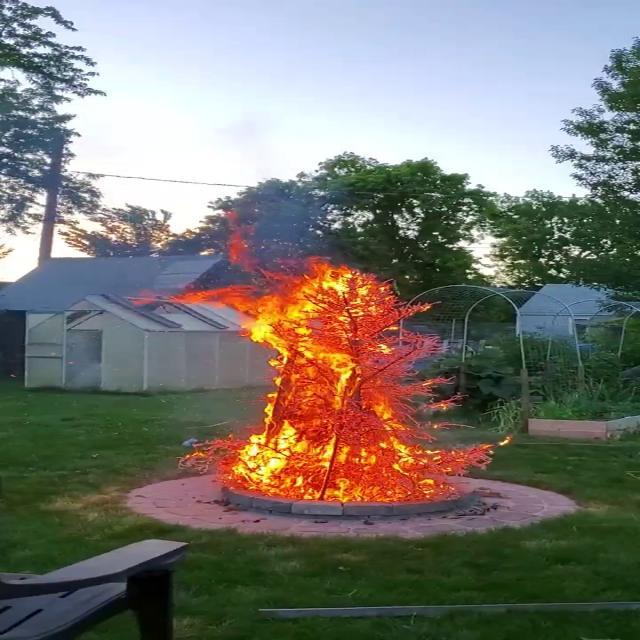Fire: (218, 259, 478, 501)
